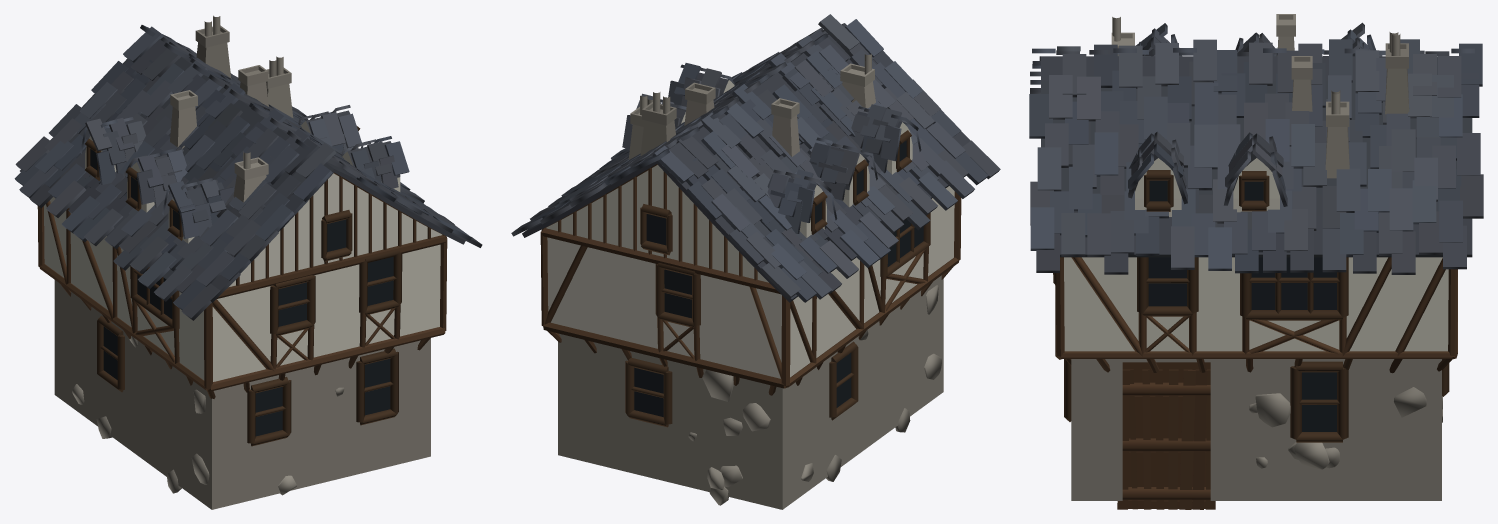
The model's file is house_24.glb.
The picture shows the model from 3 angles, left to right: view 1: azimuth 30°, elevation 25°; view 2: azimuth 150°, elevation 25°; view 3: azimuth 270°, elevation 25°; orthographic projection. The views are drawn at different scales.
Parts seen in each view (by area): view 1: house_24; view 2: house_24; view 3: house_24.
Part boxes in pixels (x1,y1,x2,y2): house_24: (14, 15, 482, 509); house_24: (511, 14, 1000, 509); house_24: (1029, 14, 1483, 509).
Size of the model in its own units: 5.52 by 6.61 by 6.21.
